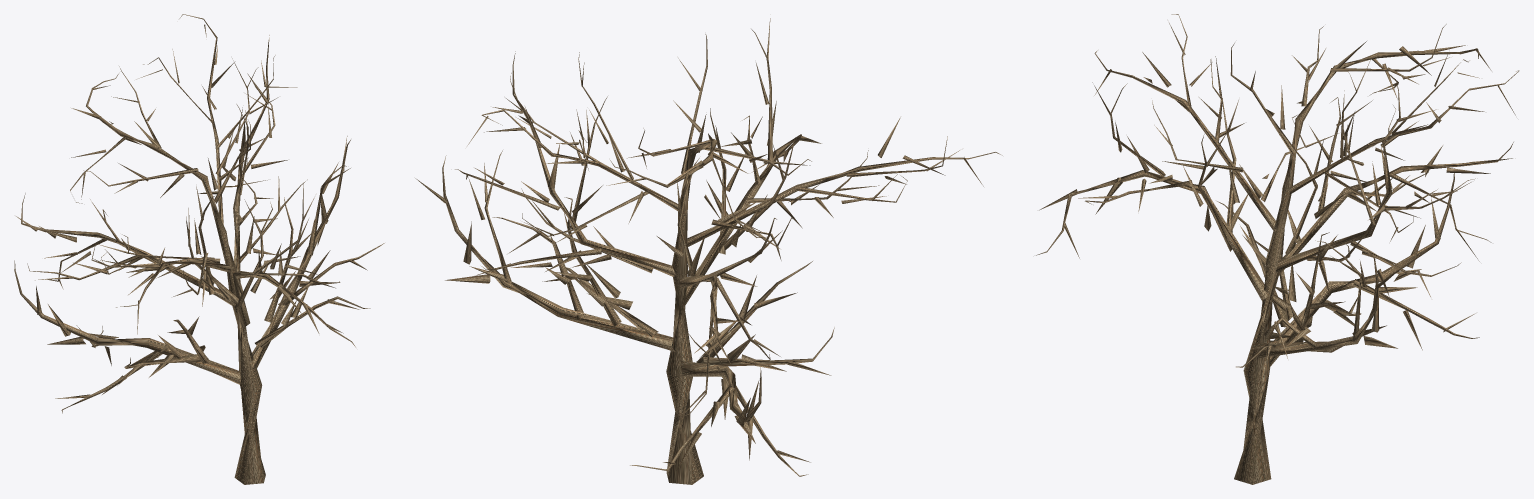
File: deadoak-lod2.glb
3 renders of one model, left to right at view 1: azimuth 30°, elevation 25°; view 2: azimuth 150°, elevation 25°; view 3: azimuth 270°, elevation 25°, orthographic. The views are drawn at different scales.
Visible parts, largest first — view 1: branches; view 2: branches; view 3: branches.
Part boxes in pixels (x1=…): branches: x1=14, y1=14, x2=384, y2=484; branches: x1=415, y1=18, x2=1002, y2=484; branches: x1=1036, y1=14, x2=1519, y2=484.
Bounding box in the file's own units: 74.46 × 74.82 × 74.15.
1 material, 1 textured.
